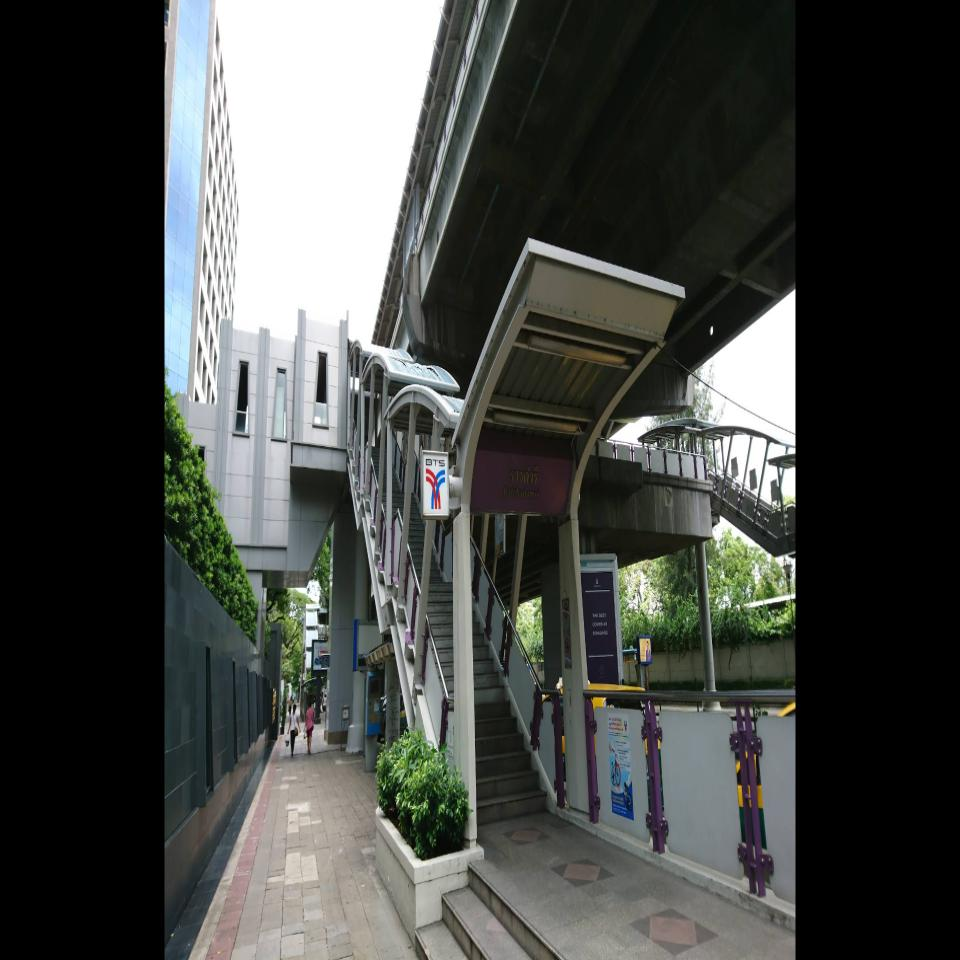Ratchadamri: (422, 449, 575, 518), (471, 450, 574, 514)
